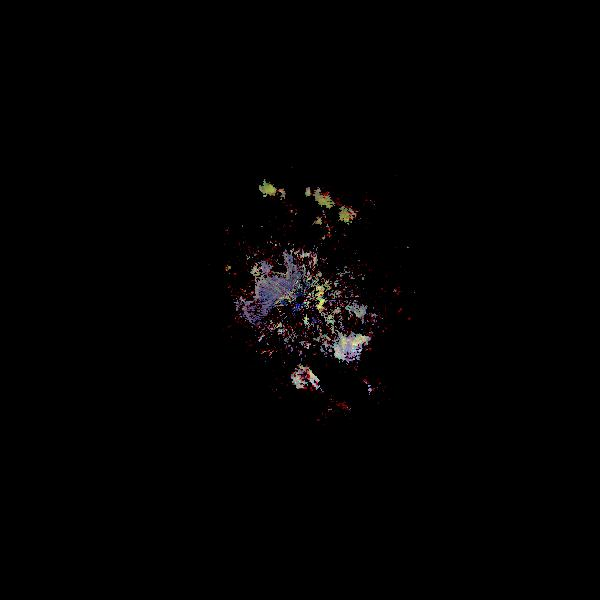roost: (288, 359, 327, 398), (332, 326, 371, 365), (257, 175, 293, 211)
